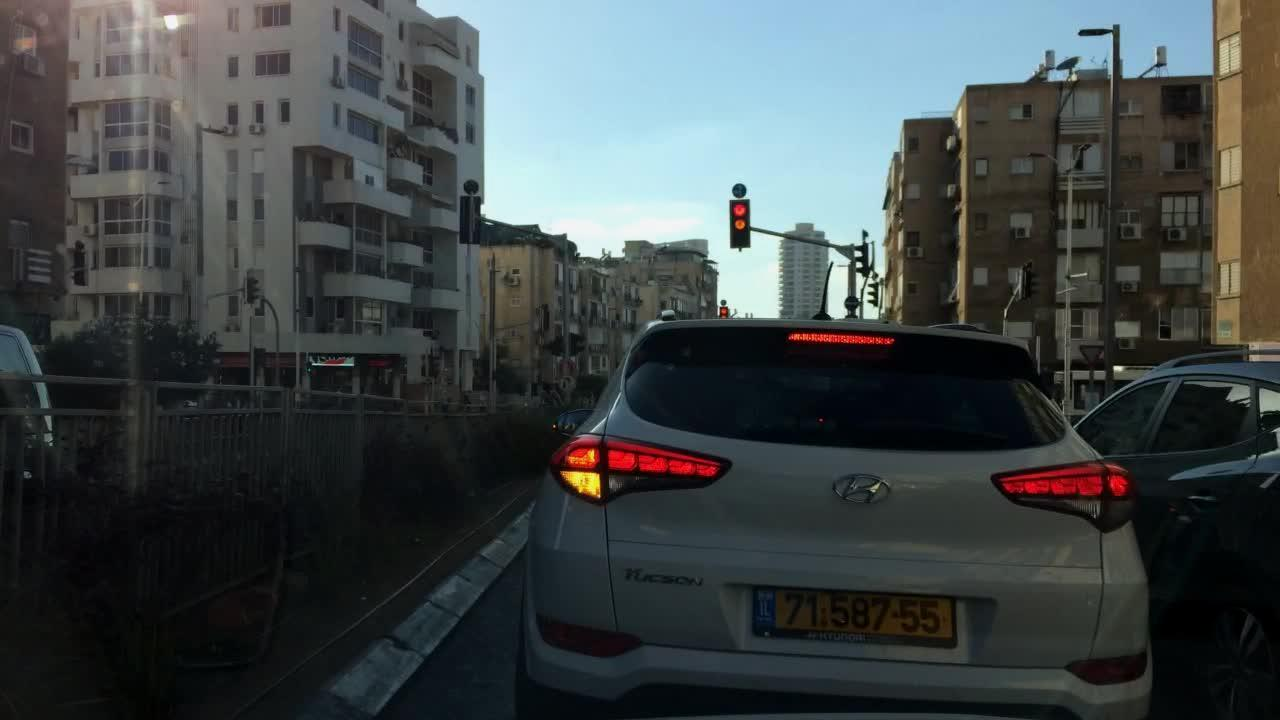Hyundai: (822, 467, 902, 512)
